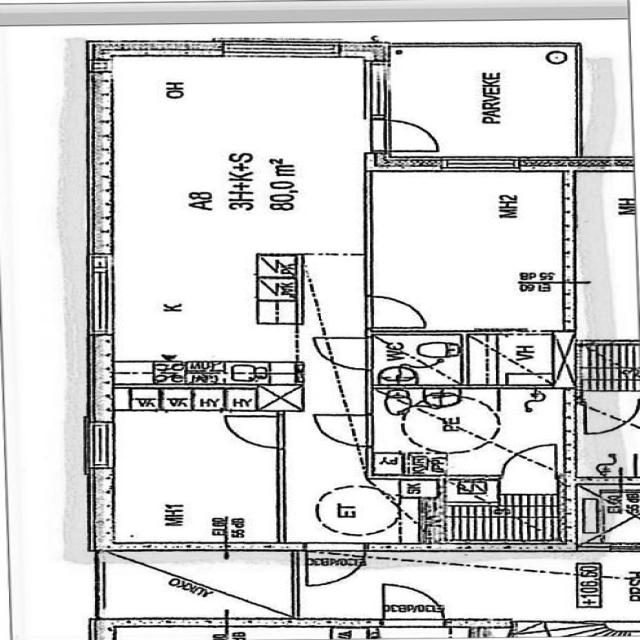door: (224, 414, 369, 448), (376, 580, 447, 623), (576, 390, 639, 434), (304, 545, 366, 587), (364, 292, 432, 330), (377, 117, 444, 154), (221, 413, 285, 450), (309, 412, 372, 447), (499, 442, 561, 474), (316, 337, 372, 371)
window: (80, 255, 124, 337), (358, 61, 400, 122), (223, 40, 340, 61), (81, 418, 120, 472), (441, 154, 521, 176), (100, 540, 217, 554), (603, 540, 640, 554)
zone: (368, 172, 572, 332), (102, 239, 302, 382), (97, 403, 284, 545), (383, 44, 582, 158), (367, 387, 564, 473), (424, 472, 562, 545), (369, 332, 466, 387), (469, 333, 558, 388), (573, 484, 640, 545), (92, 624, 229, 640)
